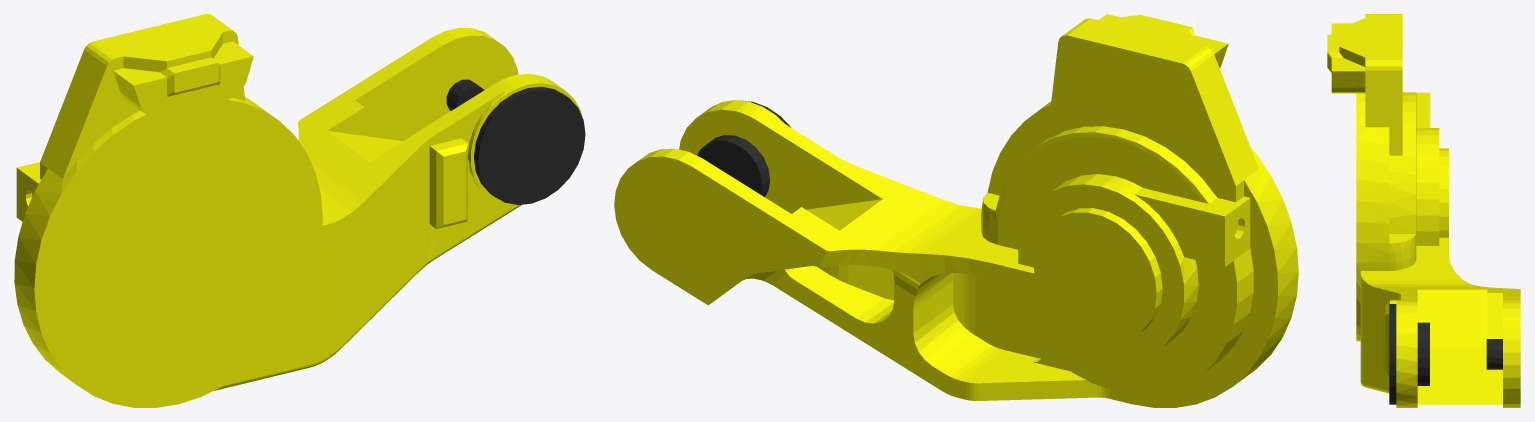
3 views of the same model, side by side, from view 1: azimuth 30°, elevation 25°; view 2: azimuth 150°, elevation 25°; view 3: azimuth 270°, elevation 25° (orthographic). The views are drawn at different scales.
Visible parts, largest first — view 1: node; view 2: node; view 3: node.
Boxes of the visible parts, x1,y1,x2,y2 form: node: [14, 14, 585, 407]; node: [614, 14, 1298, 407]; node: [1327, 14, 1520, 407].
Bounding box in the file's own units: 615 × 364 × 220.
